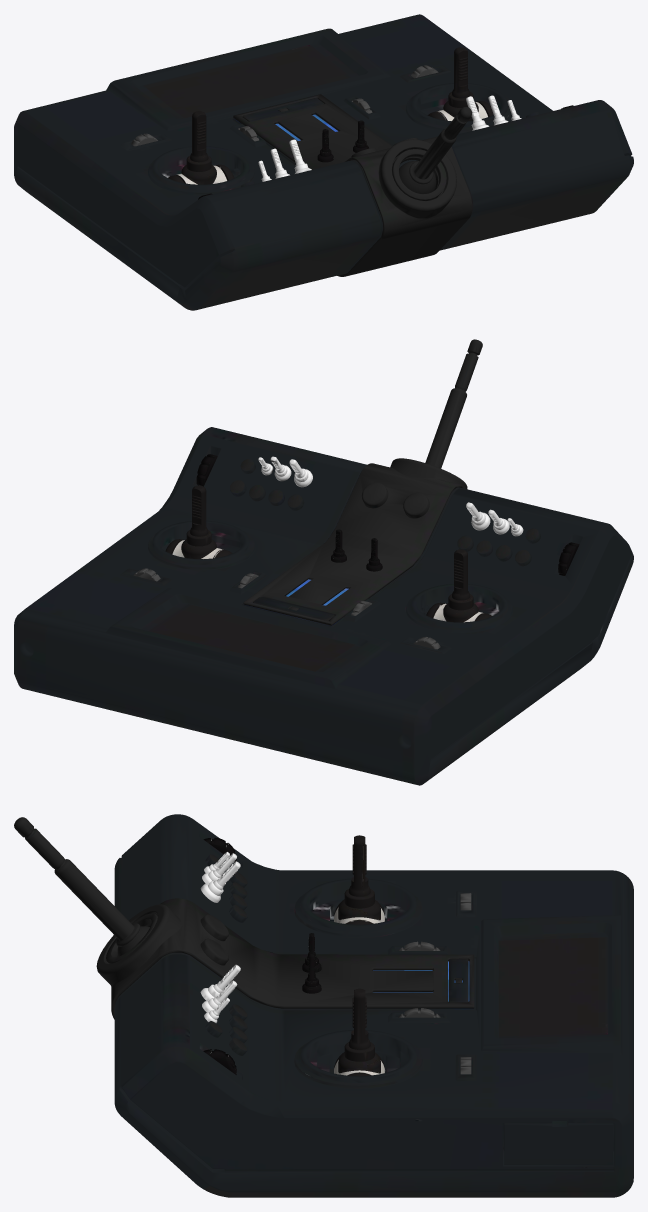
Rendered from transmitter.glb.
The picture shows the model from 3 angles, top to bottom: view 1: azimuth 30°, elevation 25°; view 2: azimuth 150°, elevation 25°; view 3: azimuth 270°, elevation 25°; orthographic projection. The views are drawn at different scales.
Visible parts, largest first — view 1: Object_8, Object_10, Object_12, Object_6, Object_4; view 2: Object_8, Object_10, Object_12, Object_6, Object_4; view 3: Object_8, Object_10, Object_12, Object_6, Object_4.
Boxes of the visible parts, bbox=[...] form: Object_8: bbox=[14, 14, 633, 310]; Object_10: bbox=[233, 94, 472, 276]; Object_12: bbox=[168, 47, 493, 184]; Object_6: bbox=[198, 95, 573, 199]; Object_4: bbox=[131, 65, 438, 146]; Object_8: bbox=[14, 427, 633, 785]; Object_10: bbox=[243, 339, 482, 625]; Object_12: bbox=[165, 485, 491, 622]; Object_6: bbox=[196, 454, 579, 575]; Object_4: bbox=[133, 568, 440, 649]; Object_8: bbox=[114, 814, 633, 1197]; Object_10: bbox=[14, 817, 474, 1019]; Object_12: bbox=[334, 835, 385, 1076]; Object_6: bbox=[200, 837, 321, 1074]; Object_4: bbox=[398, 893, 471, 1074].
Bounding box in the file's own units: 0.21 × 0.1068 × 0.2275.
5 materials, 4 textured.
